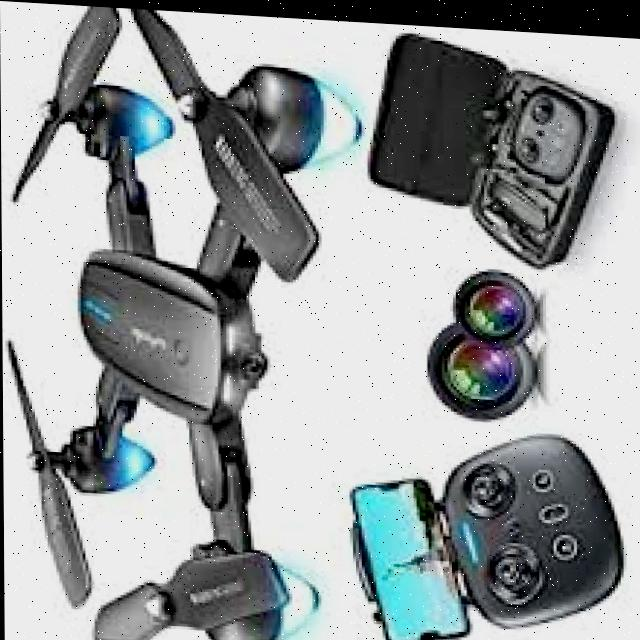drone: (1, 0, 373, 640)
